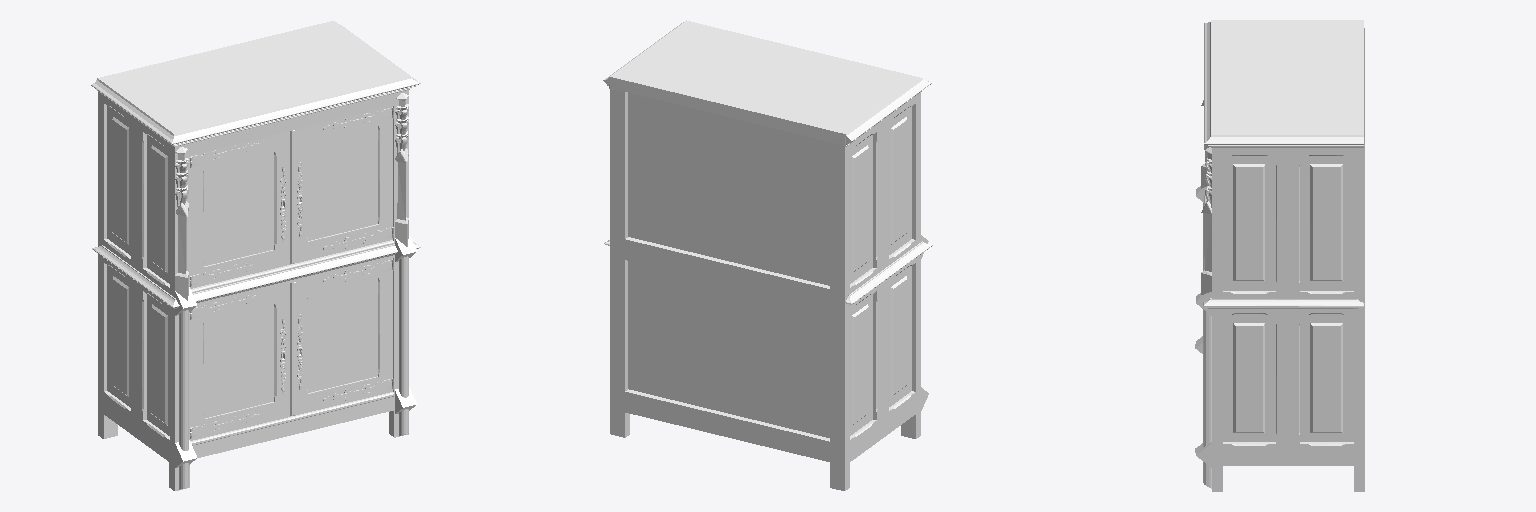
URDF robot description (model):
<?xml version="0.0" ?>
<robot name="model">
  <link name="legobrick">
    <contact>
      <lateral_friction value="1.0"/>
      <rolling_friction value="0.0"/>
      <contact_cfm value="0.0"/>
      <contact_erp value="1.0"/>
    </contact>
    <inertial>
      <origin rpy="0 0 0" xyz="0 0 0"/>
       <mass value="1.0"/>
       <inertia ixx="1" ixy="0" ixz="0" iyy="1" iyz="0" izz="1"/>
    </inertial>
    <visual>
      <origin rpy="1.570796 0 0" xyz="-10.03015282107717351 10.030092381765990012 -0"/>
      <geometry>
				<mesh filename="model.obj" scale="1 1 1"/>
      </geometry>
       <material name="white">
        <color rgba="1 1 1 1"/>
      </material>
    </visual>
    <collision>
      <origin rpy="1.570796 0 0" xyz="-0.03015282107717351 0.030092381765990012 -0.048544458443074145"/>
      <geometry>
				<mesh filename="model.obj" scale="1 1 1"/>
      </geometry>
    </collision>
  </link>
</robot>

--- What the picture shows (computed from the rendered views, not written in the file) ---
The picture shows the robot from 3 angles, left to right: view 1: azimuth 30°, elevation 25°; view 2: azimuth 150°, elevation 25°; view 3: azimuth 270°, elevation 25°; orthographic projection.
Model model with 1 links and 0 joints (none), rooted at legobrick, posed every joint at zero.
Visible links, largest first — view 1: legobrick; view 2: legobrick; view 3: legobrick.
Link boxes in pixels (x1,y1,x2,y2): legobrick: [91, 21, 420, 490]; legobrick: [603, 20, 932, 490]; legobrick: [1195, 20, 1364, 491].
Size in the robot's own frame: 1.72 by 1.02 by 2.36 metres.
1 mesh visuals loaded from 1 distinct referenced files (1 OBJ).